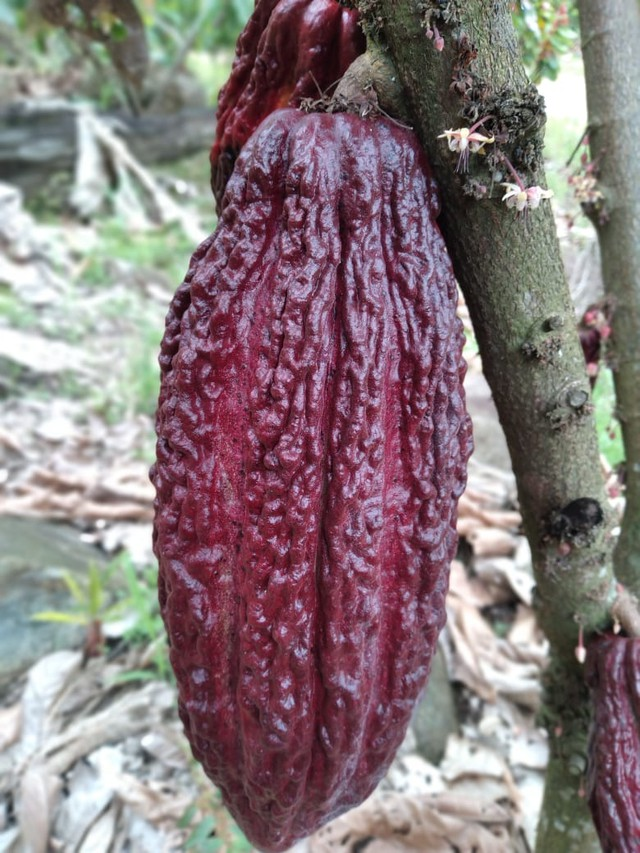Health: (130, 61, 496, 853)
